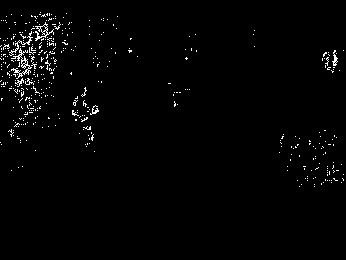person: (71, 86, 101, 149)
